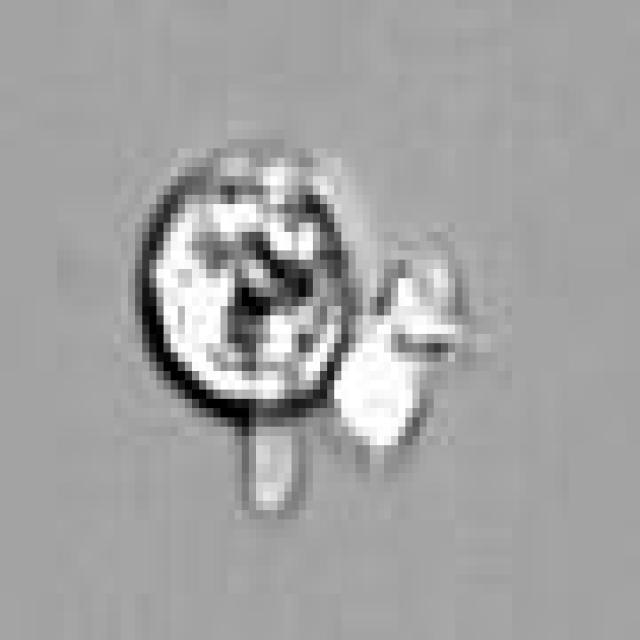Cancer Cell: (142, 149, 356, 408)
WBC: (327, 316, 455, 454)
